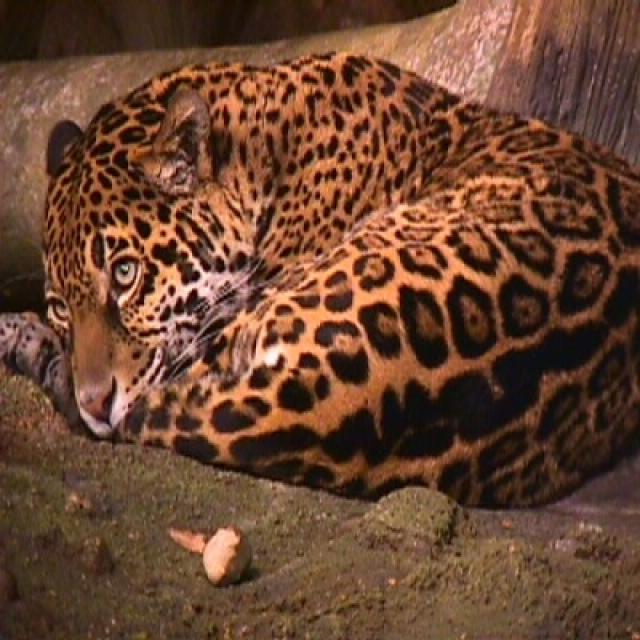Jaguar: (19, 53, 638, 510)
